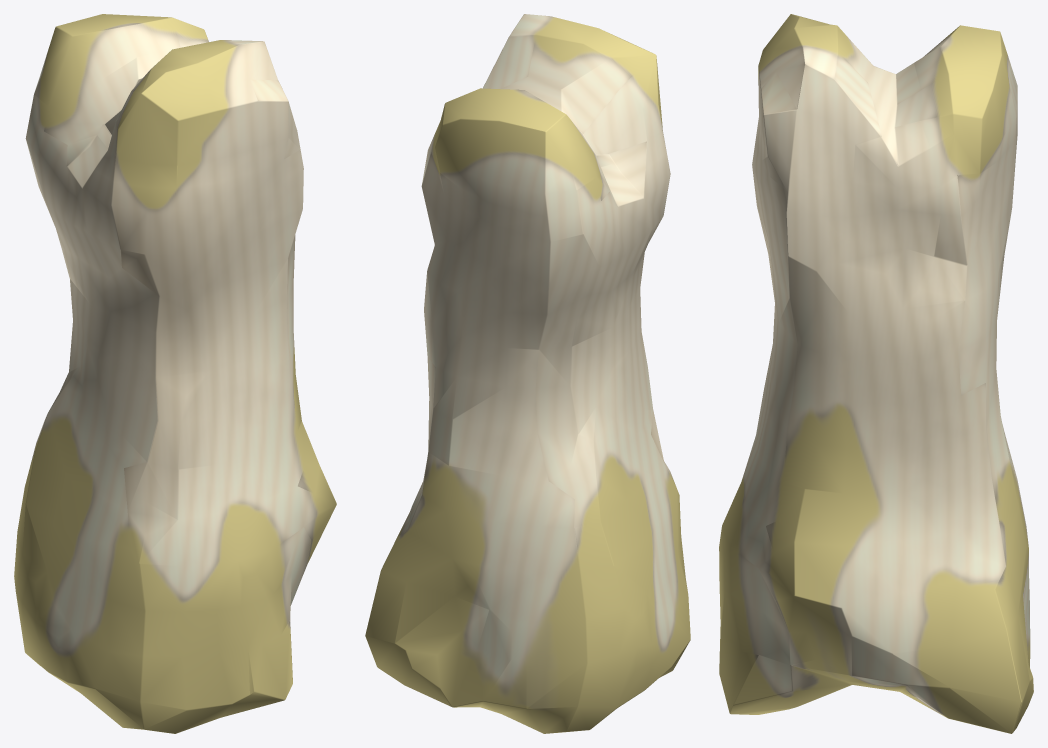
The model's file is Soldier_Bone_2.fbx.
The picture shows the model from 3 angles, left to right: view 1: azimuth 30°, elevation 25°; view 2: azimuth 150°, elevation 25°; view 3: azimuth 270°, elevation 25°; orthographic projection. The views are drawn at different scales.
Parts seen in each view (by area): view 1: Soldier_bone_2; view 2: Soldier_bone_2; view 3: Soldier_bone_2.
Part boxes in pixels (box(x1,y1,x2,y2)): Soldier_bone_2: box(14, 14, 336, 733); Soldier_bone_2: box(365, 14, 690, 733); Soldier_bone_2: box(719, 14, 1033, 733).
Size of the model in its own units: 49.71 by 120 by 50.26.
